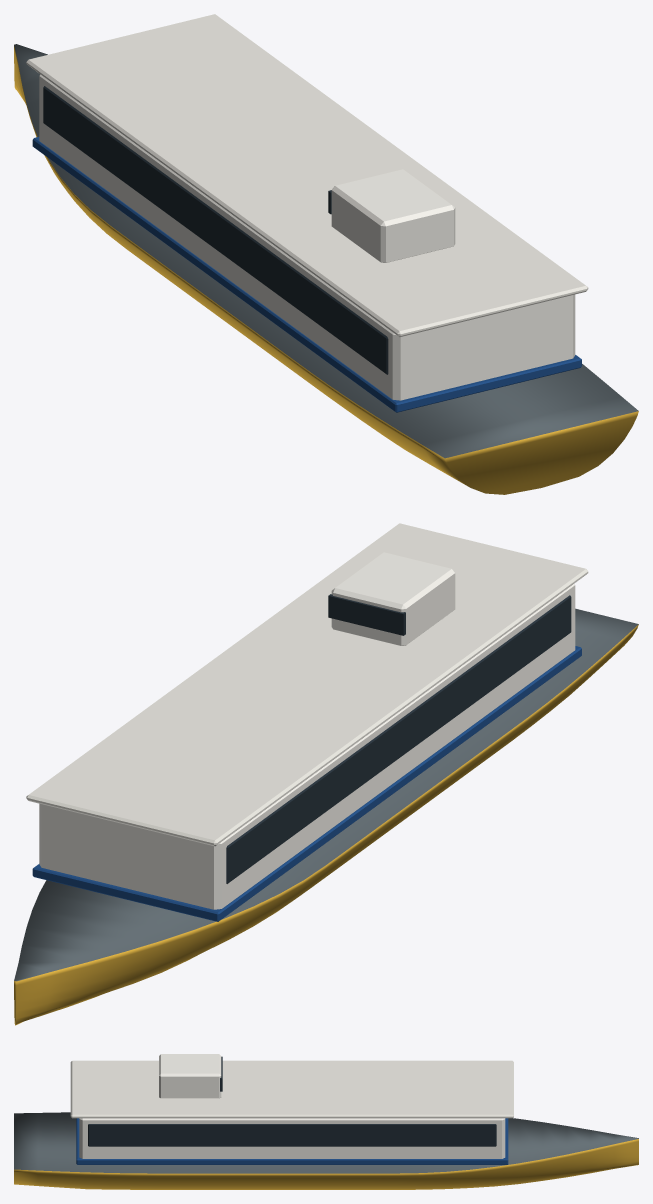
Rendered from havnebus.glb.
3 views of the same model, one above another, from view 1: azimuth 30°, elevation 25°; view 2: azimuth 150°, elevation 25°; view 3: azimuth 270°, elevation 25° (orthographic). The views are drawn at different scales.
Visible parts, largest first — view 1: Cube.003, hull, Cube, Cube.001, Cube.004, Cube.002; view 2: Cube.003, hull, Cube, Cube.001, Cube.004, Cube.002, Cube.005; view 3: Cube.003, hull, Cube.001, Cube, Cube.002, Cube.004.
Part boxes in pixels (x1,y1,x2,y2): Cube.003: (26, 14, 588, 337); hull: (14, 44, 638, 494); Cube: (39, 74, 575, 400); Cube.001: (43, 86, 388, 374); Cube.004: (331, 169, 455, 262); Cube.002: (32, 137, 581, 412); Cube.003: (26, 523, 588, 846); hull: (14, 608, 638, 1025); Cube: (39, 584, 575, 909); Cube.001: (226, 595, 571, 883); Cube.004: (331, 552, 455, 645); Cube.002: (32, 646, 581, 921); Cube.005: (328, 594, 405, 635); Cube.003: (70, 1060, 513, 1118); hull: (14, 1112, 638, 1189); Cube.001: (88, 1124, 496, 1146); Cube: (79, 1118, 505, 1158); Cube.002: (76, 1118, 508, 1164); Cube.004: (159, 1054, 221, 1098).
Bounding box in the file's own units: 5.2 × 4.4 × 22.
